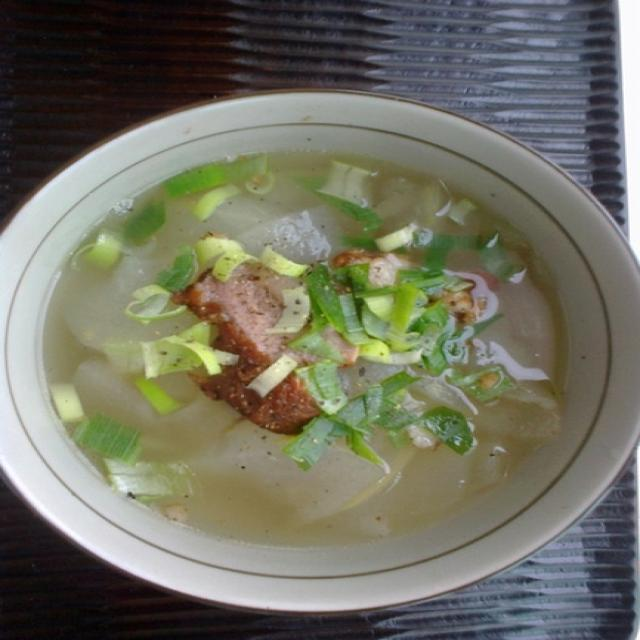汤锅炖物: (18, 84, 597, 586)
